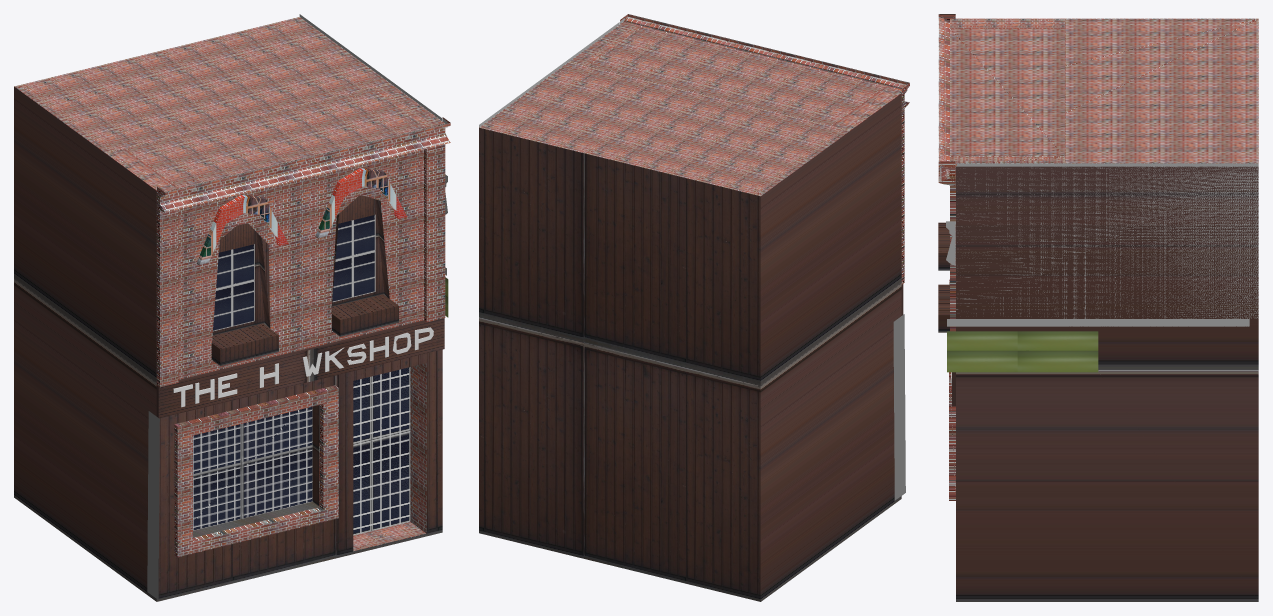
The model's file is Local3.obj.
The picture shows the model from 3 angles, left to right: view 1: azimuth 30°, elevation 25°; view 2: azimuth 150°, elevation 25°; view 3: azimuth 270°, elevation 25°; orthographic projection. The views are drawn at different scales.
Visible parts, largest first — view 1: Edificio_5.002; view 2: Edificio_5.002; view 3: Edificio_5.002.
Part boxes in pixels (left/top/right/bottom): Edificio_5.002: left=14, top=14, right=450, bottom=601; Edificio_5.002: left=479, top=14, right=909, bottom=601; Edificio_5.002: left=938, top=14, right=1258, bottom=601.
Bounding box in the file's own units: 26.31 × 36.26 × 23.92.
